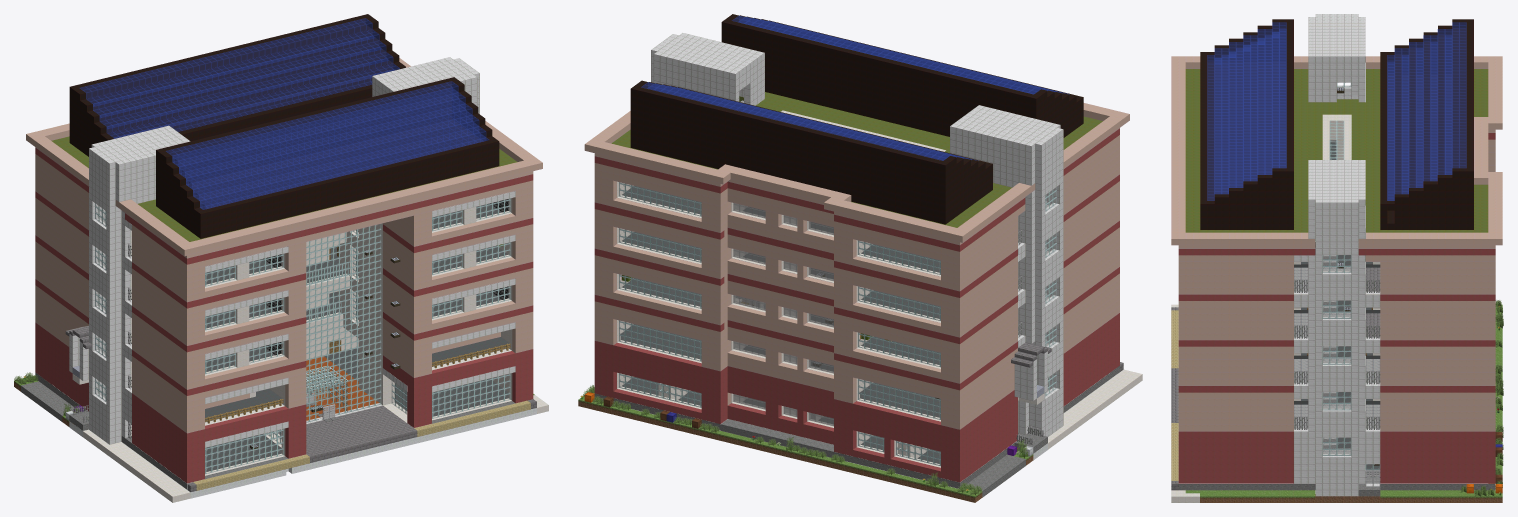
File: senkoka_draco.glb
The picture shows the model from 3 angles, left to right: view 1: azimuth 30°, elevation 25°; view 2: azimuth 150°, elevation 25°; view 3: azimuth 270°, elevation 25°; orthographic projection. The views are drawn at different scales.
Visible parts, largest first — view 1: R1KosenWorld__4_64_-217_to_66_112_-172; view 2: R1KosenWorld__4_64_-217_to_66_112_-172; view 3: R1KosenWorld__4_64_-217_to_66_112_-172.
Boxes of the visible parts, bbox=[...] form: R1KosenWorld__4_64_-217_to_66_112_-172: bbox=[14, 14, 548, 502]; R1KosenWorld__4_64_-217_to_66_112_-172: bbox=[578, 14, 1142, 502]; R1KosenWorld__4_64_-217_to_66_112_-172: bbox=[1171, 14, 1503, 502].
Bounding box in the file's own units: 63.13 × 49 × 46.15.
46 materials, 45 textured.
